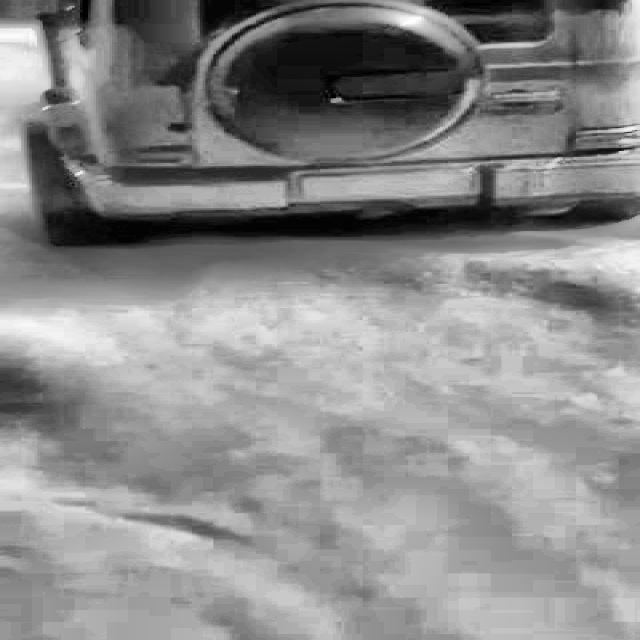light_vehicle: (0, 0, 640, 232)
